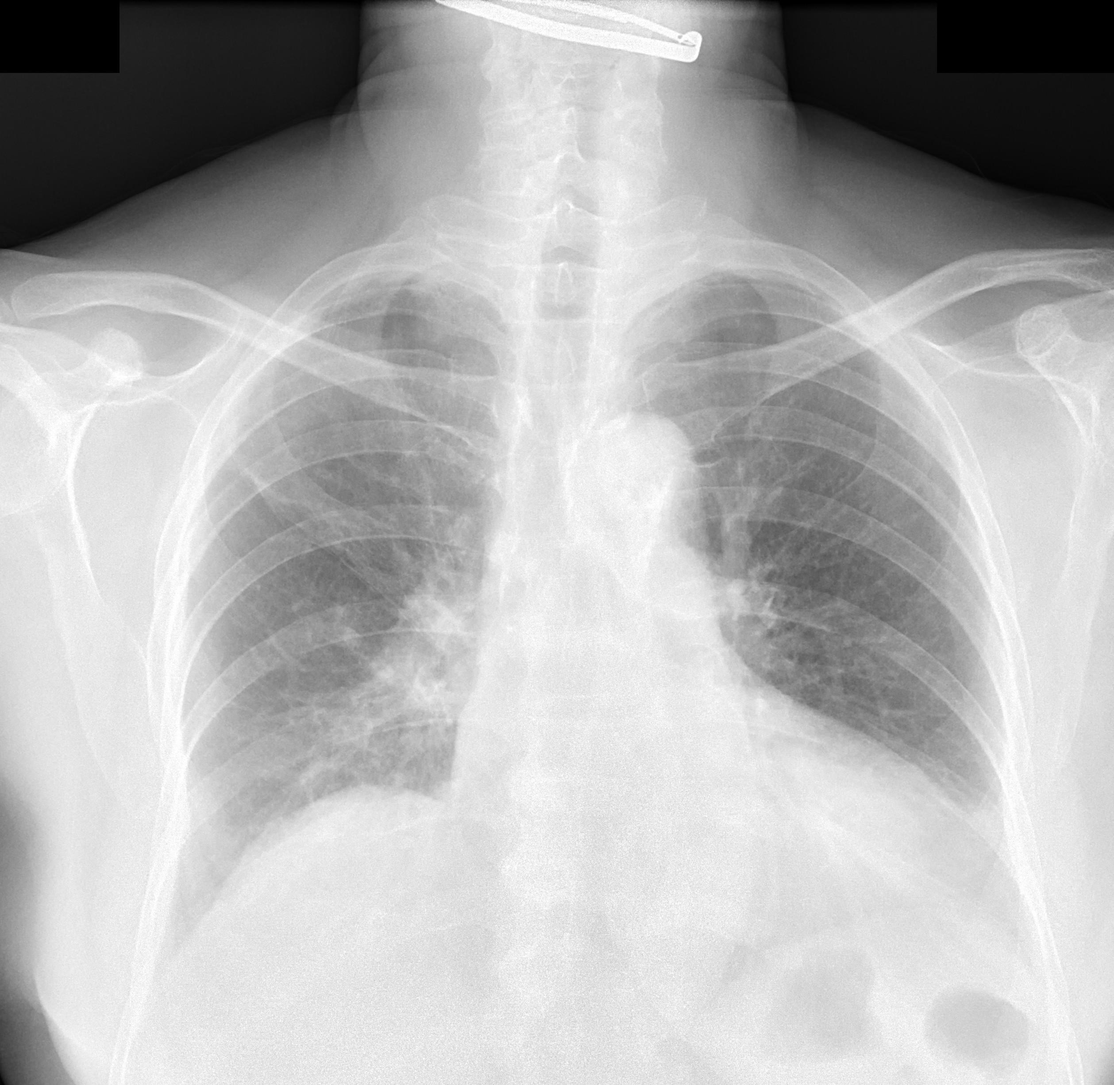Aortic enlargement: (563, 408, 704, 568)
Cardiomegaly: (445, 717, 983, 905)
Pleural thickening: (975, 786, 1033, 878), (319, 265, 488, 293), (678, 266, 823, 297)
Pulmonary fibrosis: (242, 467, 439, 651)
